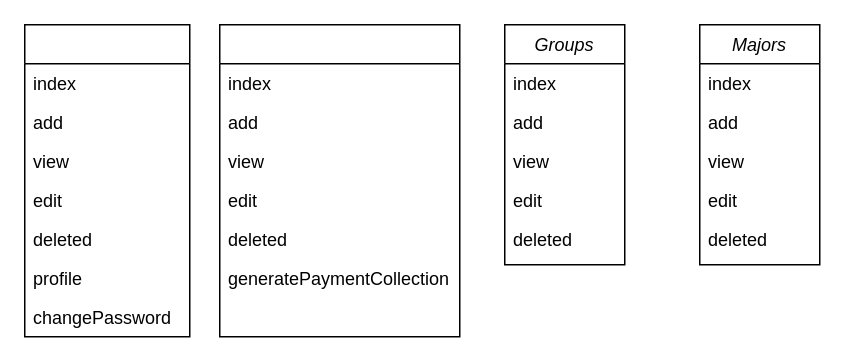
This 845x362 diagram has some shape labels left out. The shapes that lost their labels are listed below. From the top down, each one's box as (x1, y1, x2, y2) in pixels, then its label:
(23, 23, 190, 337): Admin
(218, 23, 460, 337): Generations
